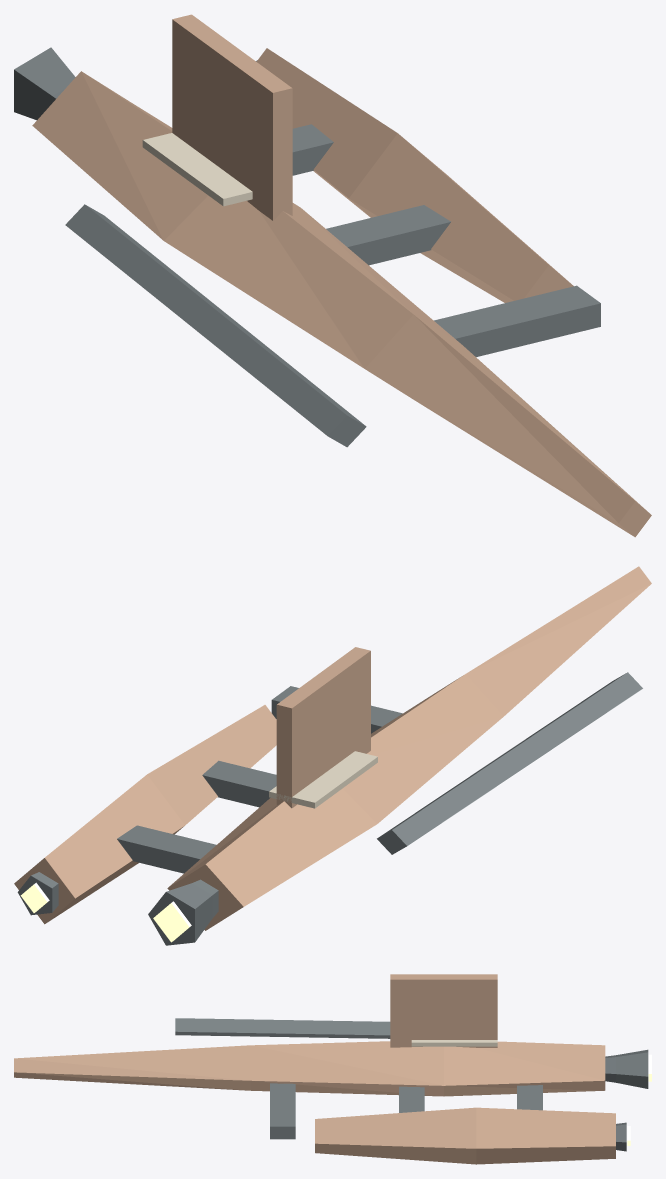
The picture shows the model from 3 angles, top to bottom: view 1: azimuth 30°, elevation 25°; view 2: azimuth 150°, elevation 25°; view 3: azimuth 270°, elevation 25°; orthographic projection. The views are drawn at different scales.
Bounding box in the file's own units: 8.72 × 5.31 × 22.5.
